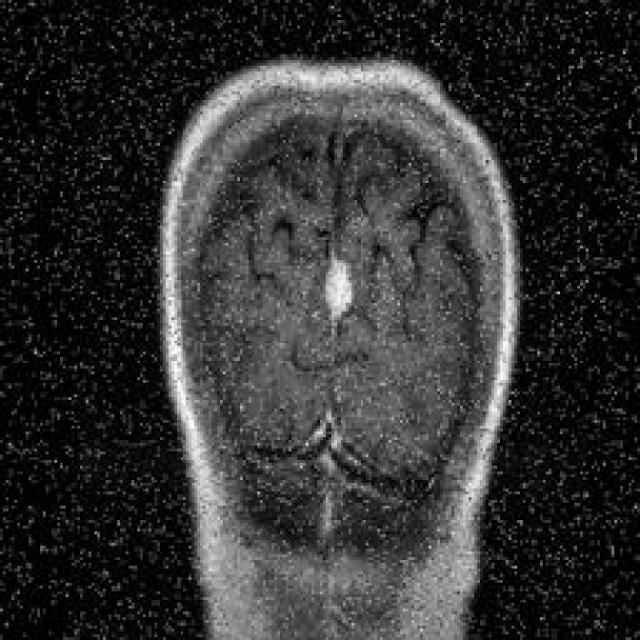meningioma_tumor: (311, 227, 370, 347)
